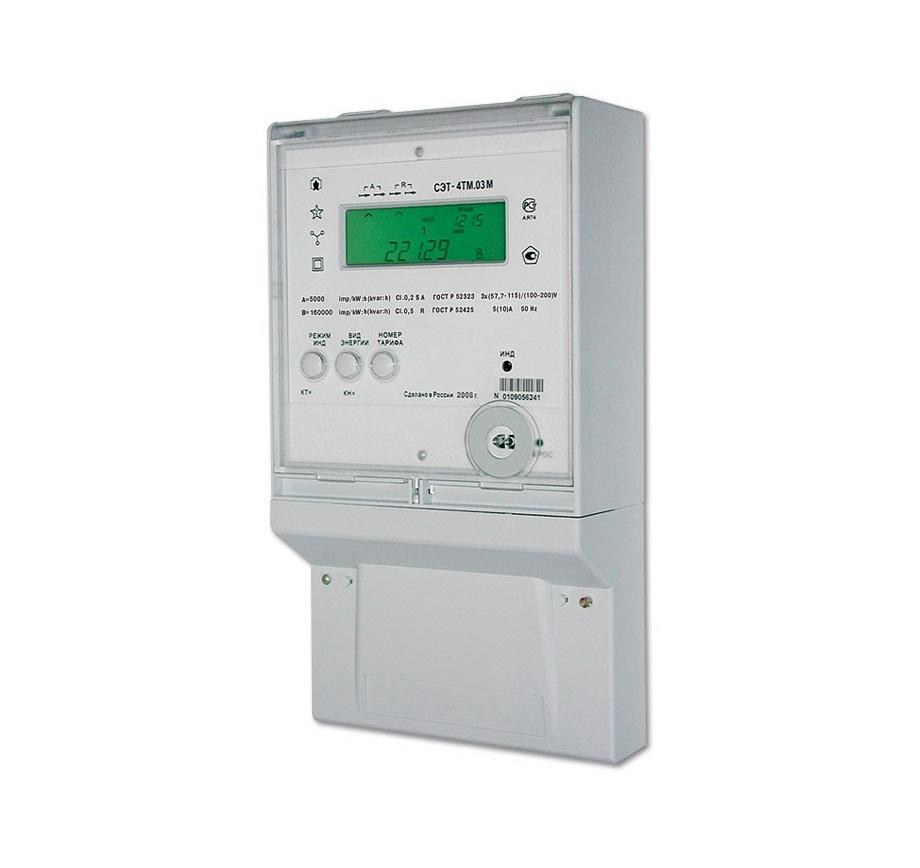counter: (256, 94, 594, 763)
counter_screen: (337, 192, 512, 268)
